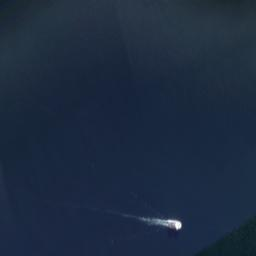boat: (166, 218, 182, 233)
